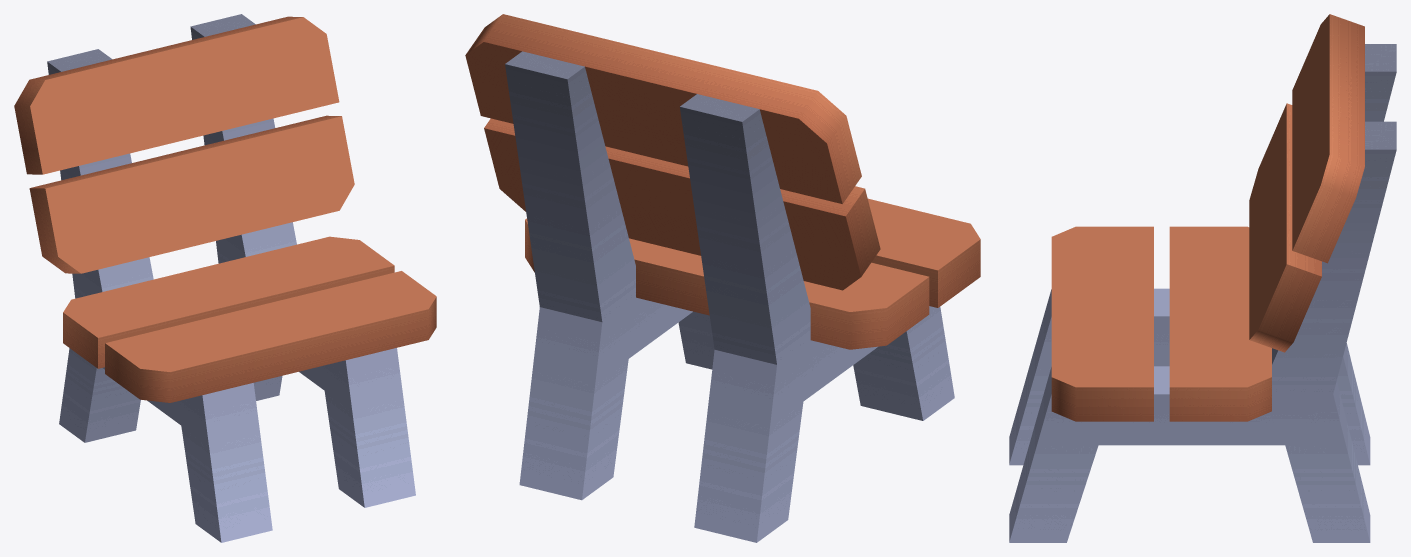
File: bench-short.glb
3 renders of one model, left to right at view 1: azimuth 30°, elevation 25°; view 2: azimuth 150°, elevation 25°; view 3: azimuth 270°, elevation 25°, orthographic. The views are drawn at different scales.
Visible parts, largest first — view 1: bench-short; view 2: bench-short; view 3: bench-short.
Boxes of the visible parts, x1=… form: bench-short: x1=14, y1=14, x2=436, y2=542; bench-short: x1=465, y1=14, x2=980, y2=542; bench-short: x1=1009, y1=14, x2=1396, y2=542.
Size of the model in its own units: 1.86 by 2.19 by 1.9.
Materials: 1 (1 with a texture image).
